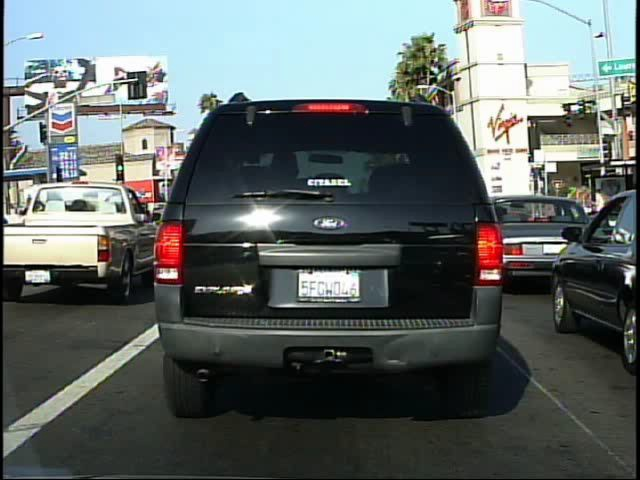person: (588, 184, 610, 242)
